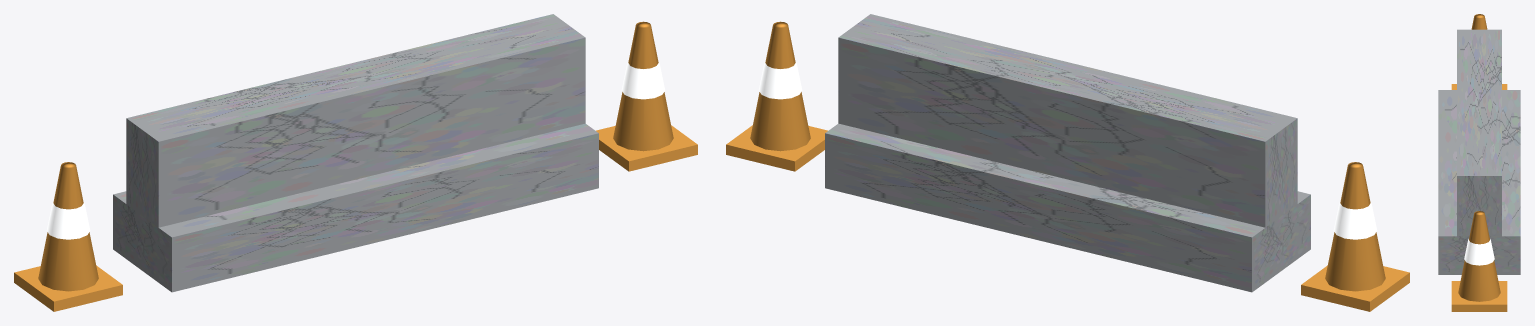
The model's file is urb_road_barrier.glb.
3 views of the same model, side by side, from view 1: azimuth 30°, elevation 25°; view 2: azimuth 150°, elevation 25°; view 3: azimuth 270°, elevation 25° (orthographic). The views are drawn at different scales.
Visible parts, largest first — view 1: barrier, cones, stripes; view 2: barrier, cones, stripes; view 3: barrier, cones, stripes.
Boxes of the visible parts, x1=… form: barrier: x1=113, y1=14, x2=598, y2=292; cones: x1=14, y1=21, x2=697, y2=311; stripes: x1=46, y1=61, x2=664, y2=239; barrier: x1=825, y1=14, x2=1310, y2=292; cones: x1=726, y1=21, x2=1409, y2=311; stripes: x1=759, y1=61, x2=1377, y2=239; barrier: x1=1438, y1=29, x2=1520, y2=274; cones: x1=1451, y1=14, x2=1507, y2=311; stripes: x1=1464, y1=239, x2=1494, y2=265.
Size of the model in its own units: 3.92 by 0.82 by 0.62.
3 materials, 1 textured.
